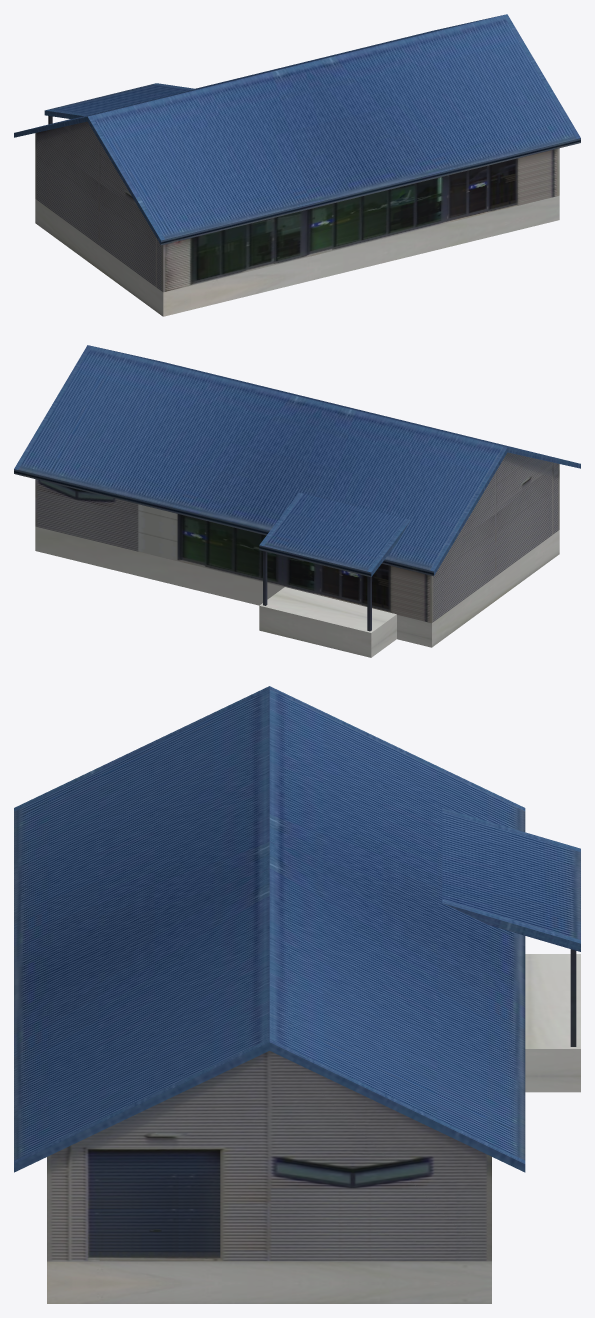
File: terminal-small-09-17x10-cbj_LOD00.gltf
3 views of the same model, one above another, from view 1: azimuth 30°, elevation 25°; view 2: azimuth 150°, elevation 25°; view 3: azimuth 270°, elevation 25° (orthographic). The views are drawn at different scales.
Parts seen in each view (by area): view 1: Sketchup; view 2: Sketchup; view 3: Sketchup.
Boxes of the visible parts, <box> form: Sketchup: <box>14,14,580,316</box>; Sketchup: <box>14,345,580,657</box>; Sketchup: <box>14,686,580,1303</box>.
Size of the model in its own units: 18 by 6.4 by 12.11.
